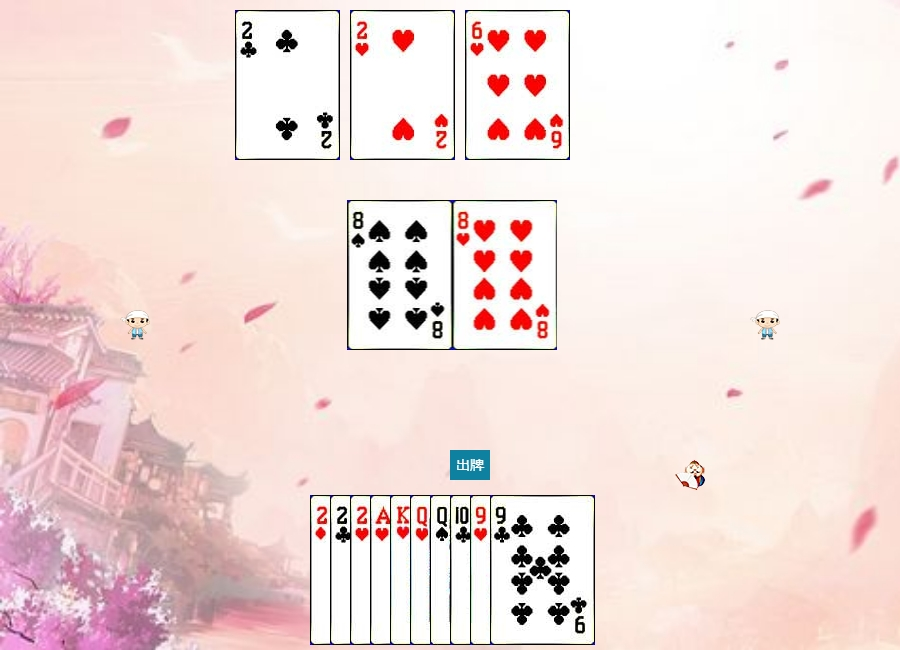10~2: (450, 495, 555, 645)
12~3: (410, 495, 515, 645)
12~4: (430, 495, 535, 645)
13~3: (390, 495, 495, 645)
14~3: (370, 495, 475, 645)
15~1: (310, 495, 415, 645)
15~2: (235, 10, 340, 160), (330, 495, 435, 645)
15~3: (350, 10, 455, 160), (350, 495, 455, 645)
6~3: (465, 10, 570, 160)
8~3: (453, 200, 558, 350)
8~4: (348, 200, 453, 350)
9~2: (490, 495, 595, 645)
9~3: (470, 495, 575, 645)
